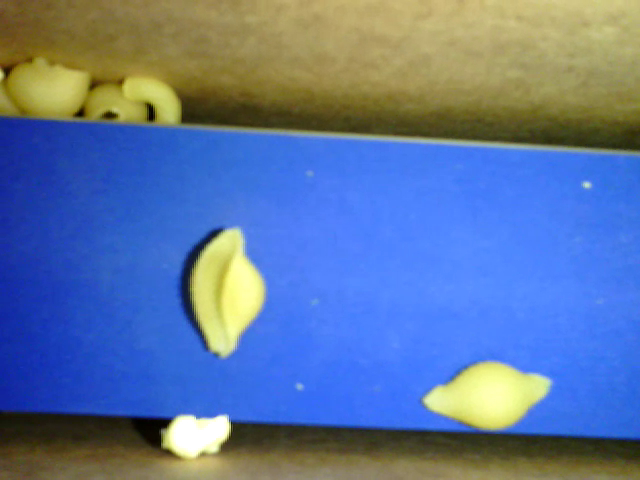elbow: (124, 75, 186, 125)
shell: (187, 225, 269, 359), (423, 362, 554, 432), (6, 54, 91, 117), (80, 81, 150, 123)
